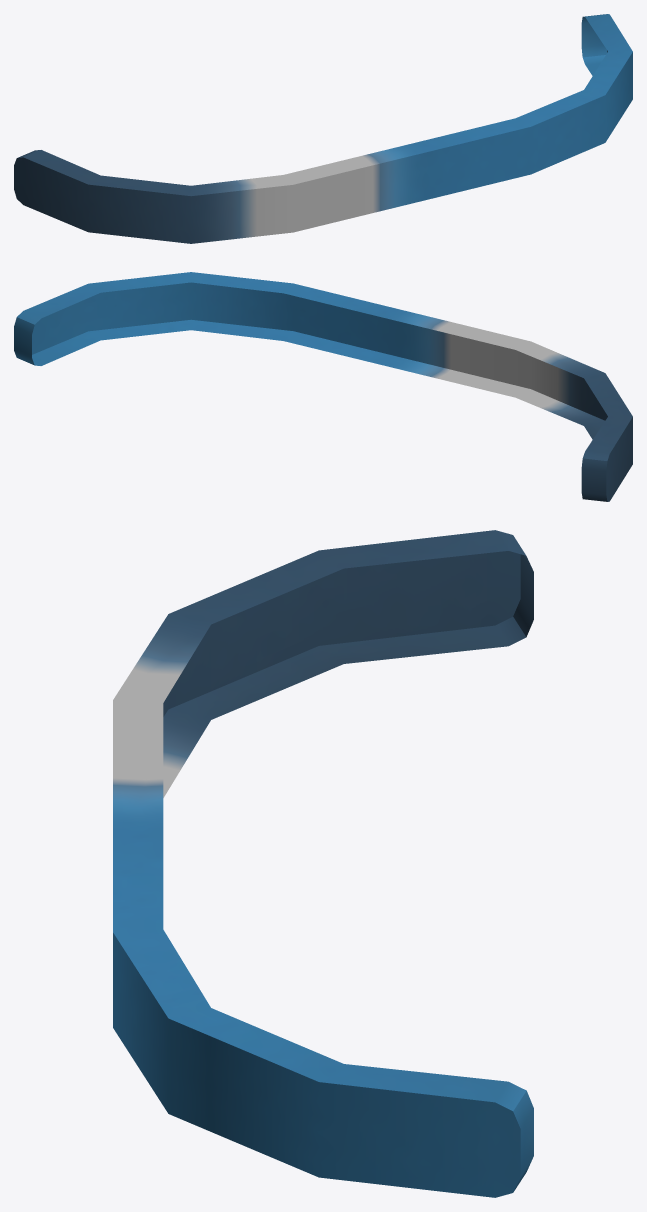
File: back light.fbx
3 views of the same model, one above another, from view 1: azimuth 30°, elevation 25°; view 2: azimuth 150°, elevation 25°; view 3: azimuth 270°, elevation 25° (orthographic). The views are drawn at different scales.
Parts seen in each view (by area): view 1: back_light; view 2: back_light; view 3: back_light.
Part boxes in pixels (box(x1,y1,x2,y2)): back_light: box(14, 14, 632, 243); back_light: box(14, 272, 632, 501); back_light: box(113, 530, 533, 1197).
Size of the model in its own units: 24.57 by 1.89 by 7.56.
